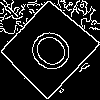O: (23, 23, 85, 85)
